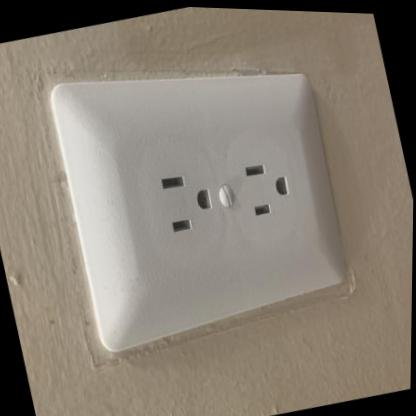OUTLET: (39, 25, 363, 365)
